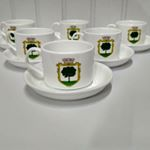cups: (22, 39, 99, 90), (5, 25, 61, 62), (72, 26, 125, 64)
